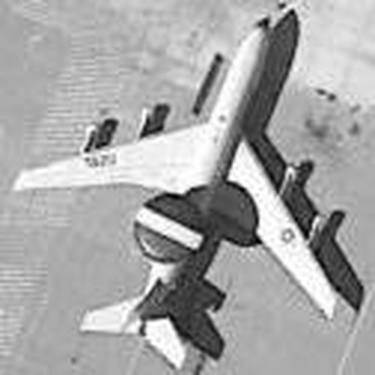airplane: (10, 8, 362, 372)
